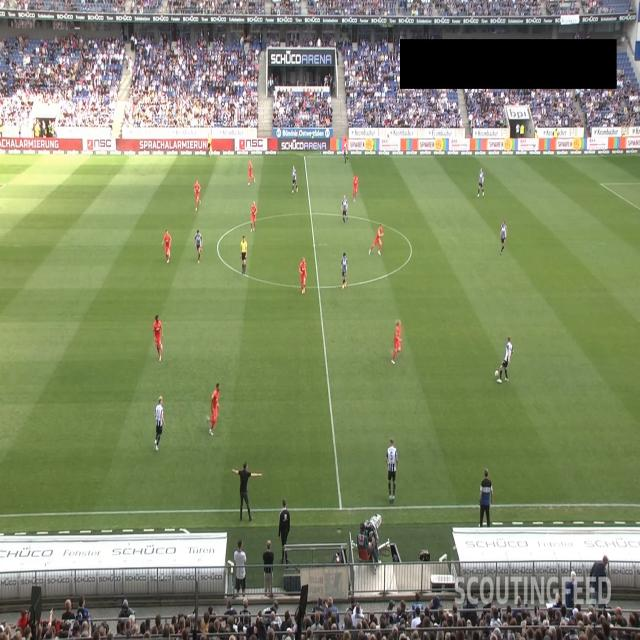ball: (494, 369, 499, 378)
